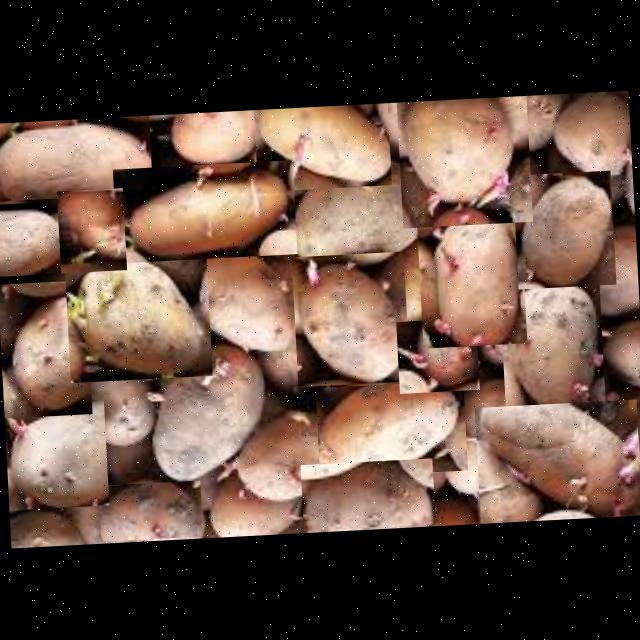Sprouted potato: (474, 399, 640, 523), (64, 252, 212, 383), (112, 160, 298, 264), (397, 95, 533, 228), (286, 162, 437, 273), (292, 252, 411, 388), (172, 234, 301, 357), (417, 210, 528, 348), (316, 381, 468, 478), (148, 349, 256, 480), (500, 284, 606, 412), (0, 116, 153, 202), (0, 280, 92, 418), (512, 170, 616, 290), (254, 103, 392, 192), (218, 406, 342, 505), (4, 400, 109, 510), (300, 458, 436, 531), (0, 200, 89, 277), (552, 98, 630, 184), (98, 481, 204, 542), (396, 318, 480, 394), (57, 188, 127, 274)
